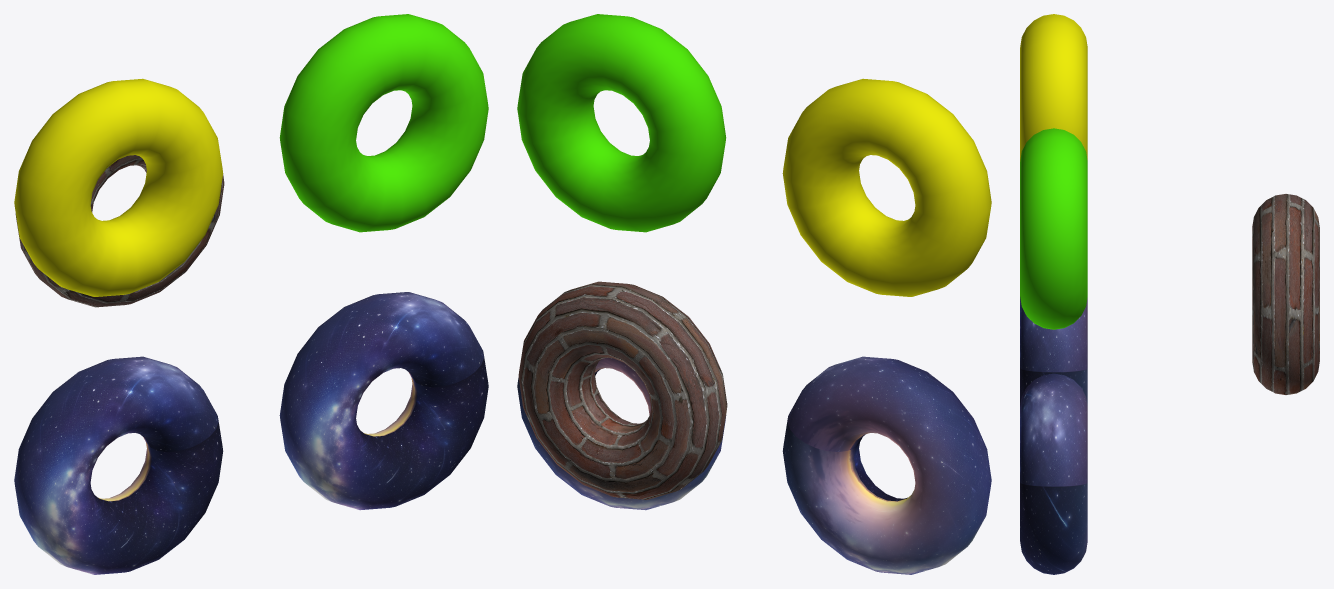
The model's file is DO-NATU.fbx.
The picture shows the model from 3 angles, left to right: view 1: azimuth 30°, elevation 25°; view 2: azimuth 150°, elevation 25°; view 3: azimuth 270°, elevation 25°; orthographic projection. The views are drawn at different scales.
Parts seen in each view (by area): view 1: pTorus7; view 2: pTorus7; view 3: pTorus7.
Boxes of the visible parts, x1,y1,x2,y2 form: pTorus7: [14, 14, 488, 574]; pTorus7: [517, 14, 991, 574]; pTorus7: [1020, 14, 1319, 574].
Size of the model in its own units: 7 by 7 by 4.43.
5 materials, 3 textured.
